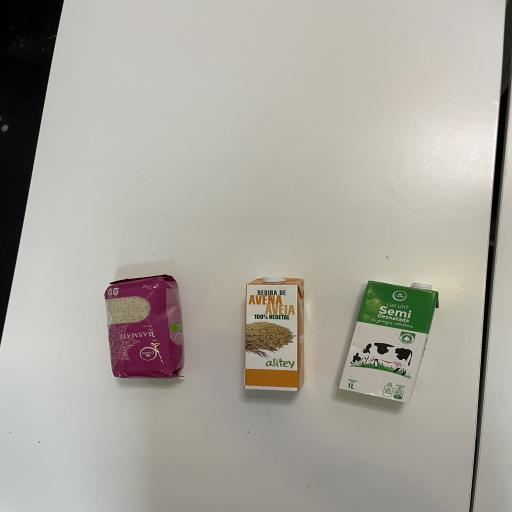milk: (334, 276, 446, 410)
oat_milk: (236, 268, 314, 406)
rice: (96, 270, 194, 386)
